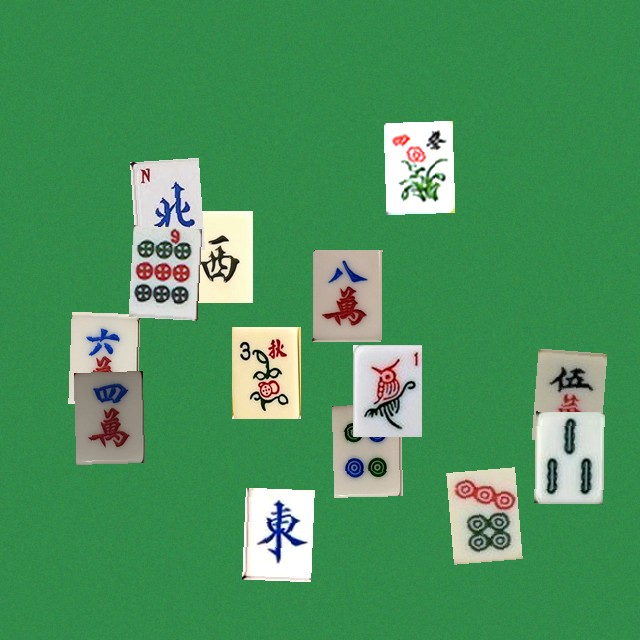tile: (446, 467, 515, 559), (183, 210, 252, 302), (331, 404, 400, 496), (129, 157, 198, 249), (352, 344, 421, 436), (312, 249, 381, 341), (242, 487, 311, 579), (68, 311, 137, 403), (73, 371, 142, 463), (531, 348, 600, 440), (128, 225, 197, 317), (231, 326, 300, 418), (383, 120, 452, 212), (534, 411, 603, 503)
